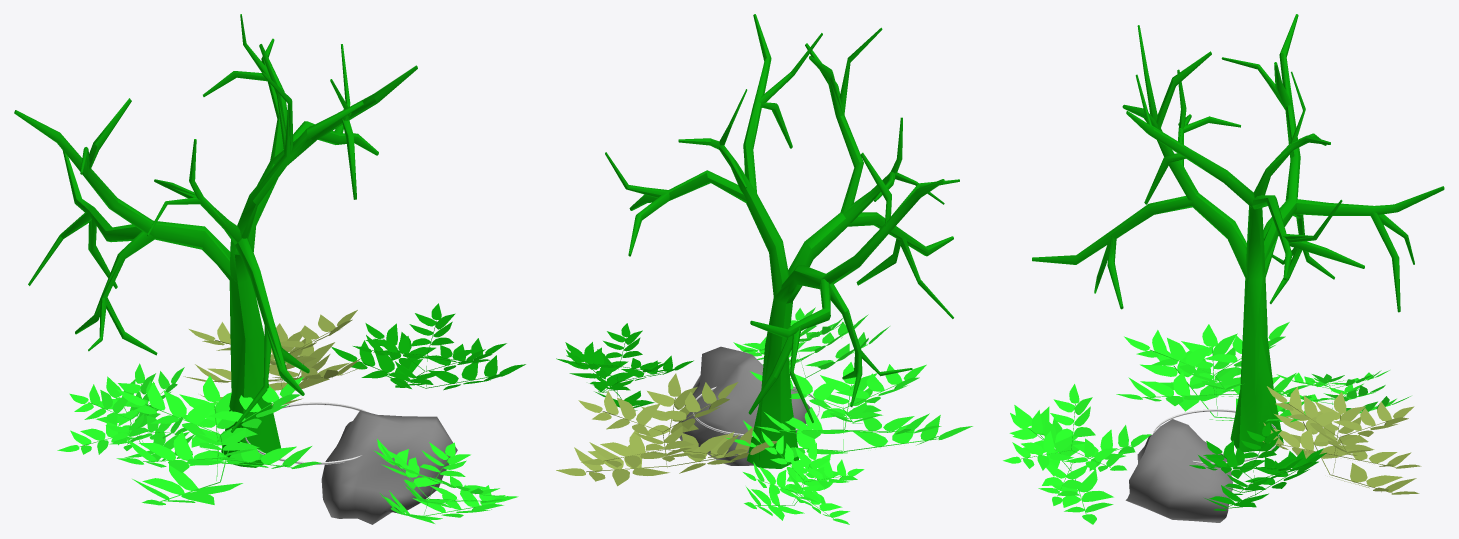
File: static_grass_tree.fbx
3 views of the same model, side by side, from view 1: azimuth 30°, elevation 25°; view 2: azimuth 150°, elevation 25°; view 3: azimuth 270°, elevation 25° (orthographic). The views are drawn at different scales.
Parts seen in each view (by area): view 1: Mesh, plant.002, Cube, plant.001, plant.004, plant.003, plant; view 2: Mesh, plant, plant.002, Cube, plant.004, plant.001, plant.003; view 3: Mesh, Cube, plant.003, plant.002, plant, plant.001, plant.004.
Boxes of the visible parts, x1=… form: Mesh: x1=14, y1=14, x2=417, y2=467; plant.002: x1=116, y1=375, x2=321, y2=505; Cube: x1=321, y1=410, x2=457, y2=524; plant.001: x1=331, y1=303, x2=525, y2=390; plant.004: x1=57, y1=363, x2=194, y2=461; plant.003: x1=373, y1=439, x2=518, y2=523; plant: x1=183, y1=310, x2=364, y2=405; Mesh: x1=605, y1=14, x2=959, y2=468; plant: x1=556, y1=373, x2=777, y2=486; plant.002: x1=725, y1=362, x2=972, y2=457; Cube: x1=678, y1=346, x2=810, y2=465; plant.004: x1=743, y1=431, x2=864, y2=524; plant.001: x1=556, y1=323, x2=693, y2=410; plant.003: x1=733, y1=307, x2=889, y2=378; Mesh: x1=1032, y1=14, x2=1444, y2=452; Cube: x1=1125, y1=419, x2=1232, y2=522; plant.003: x1=1003, y1=384, x2=1151, y2=524; plant.002: x1=1116, y1=322, x2=1309, y2=422; plant: x1=1262, y1=386, x2=1421, y2=494; plant.001: x1=1189, y1=422, x2=1326, y2=510; plant.004: x1=1276, y1=370, x2=1410, y2=414.
Size of the model in its own units: 3.75 by 3.8 by 3.48.
